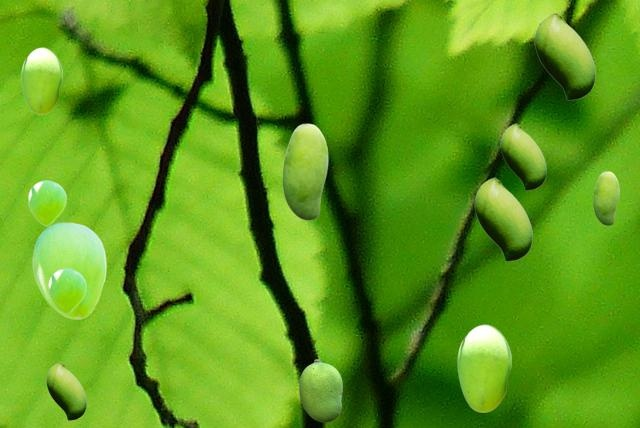green_mango: (32, 222, 105, 318), (534, 12, 594, 99), (474, 177, 531, 260), (457, 324, 510, 411), (282, 123, 327, 219), (500, 123, 545, 189), (21, 47, 61, 113), (299, 359, 341, 421), (46, 362, 85, 419), (28, 180, 65, 225), (48, 268, 85, 313), (593, 171, 618, 224)
